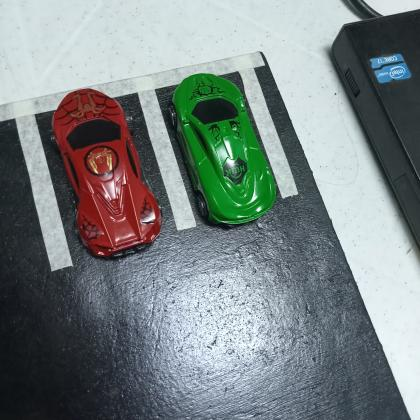Car: (49, 88, 163, 260), (168, 71, 278, 229)
